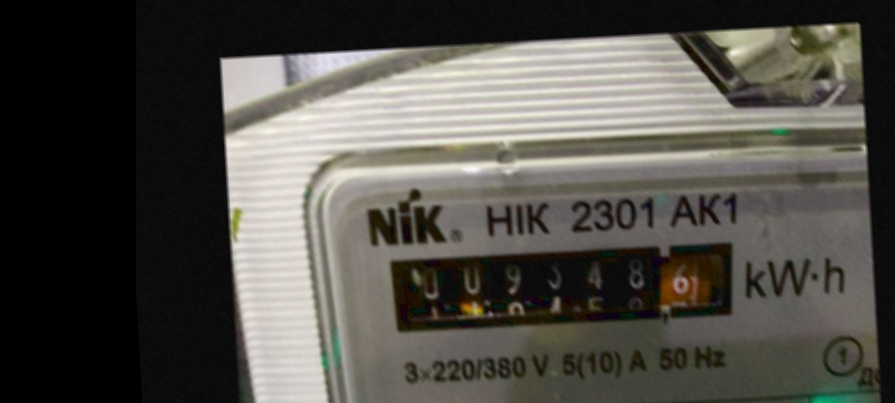0: (459, 261, 482, 298), (418, 265, 440, 302)
3: (541, 258, 564, 291)
4: (581, 255, 604, 293)
6: (668, 260, 692, 296)
8: (624, 255, 645, 290)
9: (502, 260, 522, 295)
screen: (365, 226, 755, 349)
